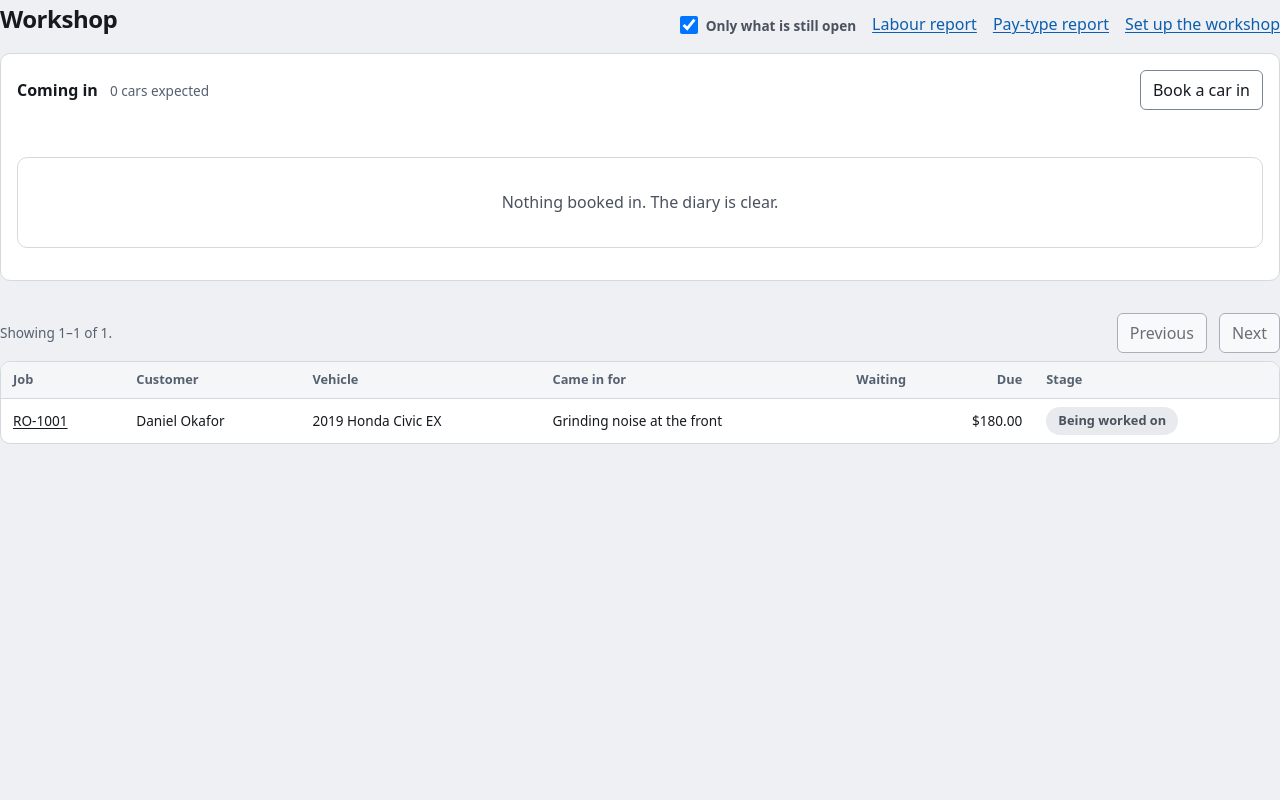
Scenario: one job › hides the write-up form once the work is frozen
Click the button "RO-1001": {"x": 40, "y": 421} [13,409,68,433]
(page scrolled)
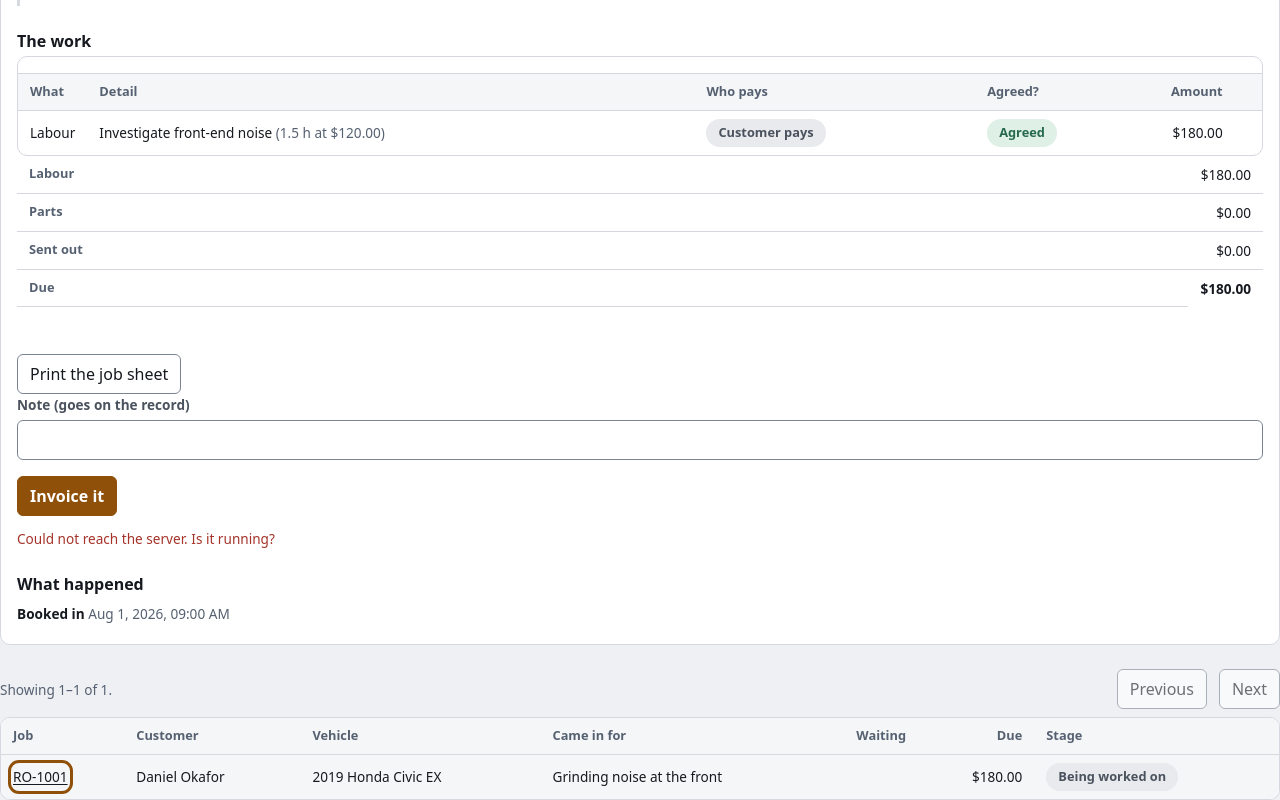
Check: the button "Invoice it" is shown, box [17,476,117,516]
